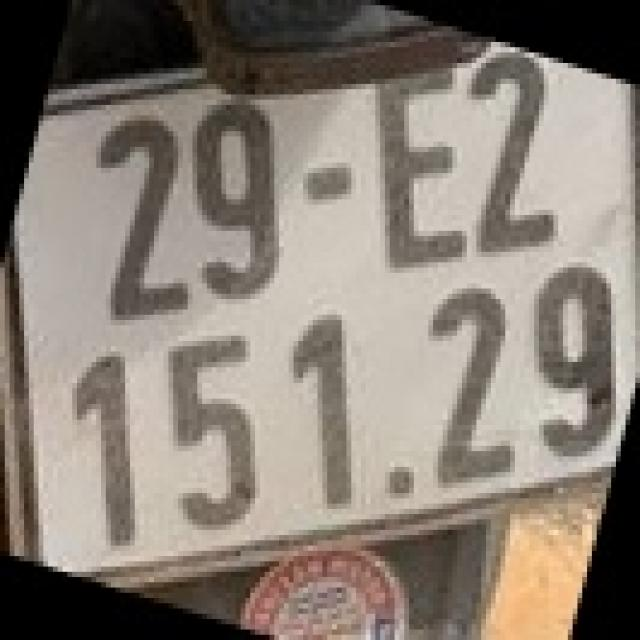1: (284, 304, 370, 514), (63, 341, 149, 551)
2: (86, 105, 192, 325), (418, 278, 524, 488), (467, 42, 568, 257)
5: (159, 325, 269, 535)
9: (188, 94, 288, 304), (524, 257, 626, 462)
E: (371, 47, 466, 273)
